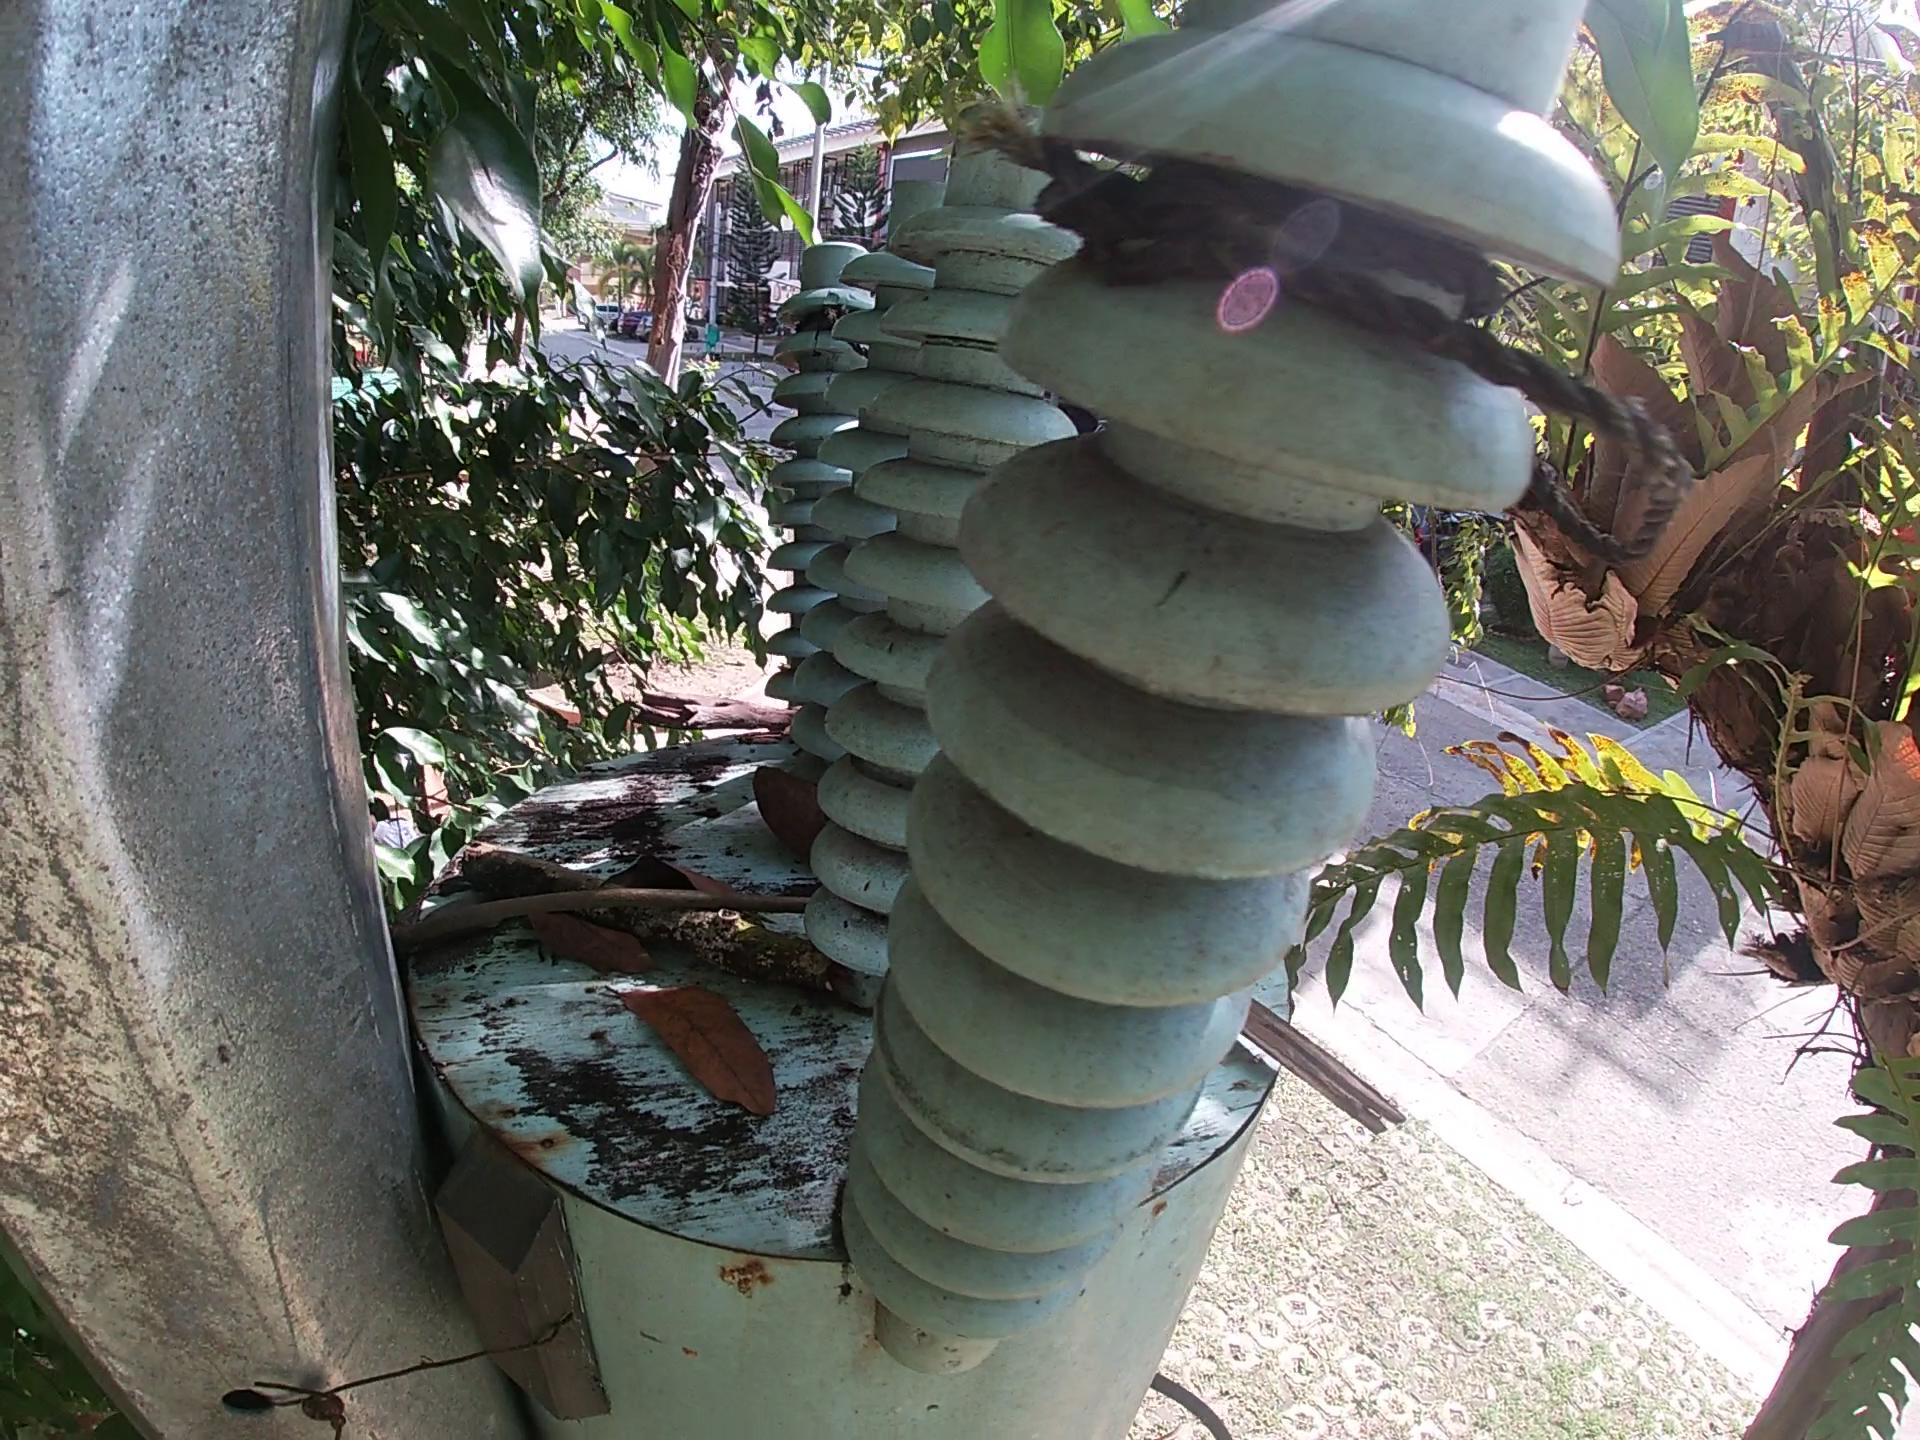leaf: (599, 979, 788, 1122), (525, 908, 665, 982), (593, 849, 735, 889)
mahogany fruit: (745, 761, 828, 867)
tree branch: (457, 836, 841, 989), (389, 889, 813, 953), (1240, 995, 1404, 1139), (627, 684, 800, 750)
